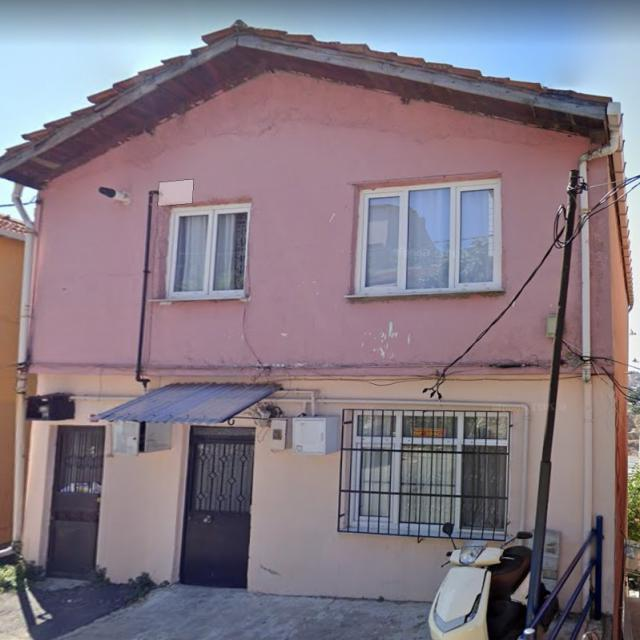Building: (0, 20, 633, 614)
